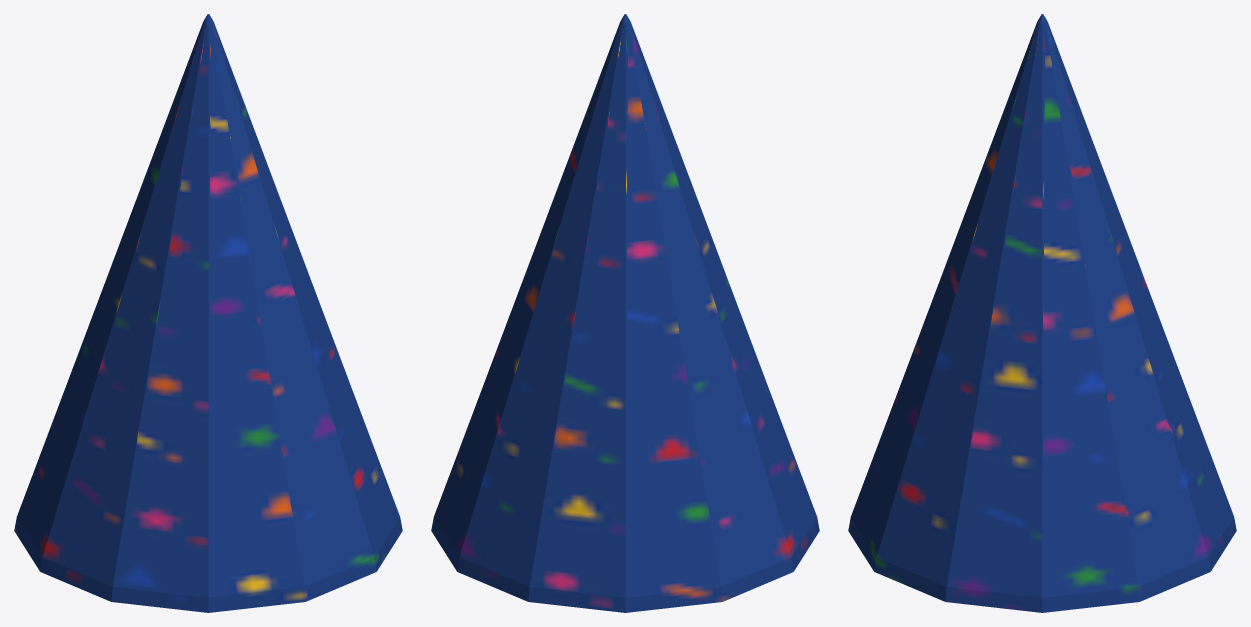
The model's file is party_hat_confetti.glb.
The picture shows the model from 3 angles, left to right: view 1: azimuth 30°, elevation 25°; view 2: azimuth 150°, elevation 25°; view 3: azimuth 270°, elevation 25°; orthographic projection.
Parts seen in each view (by area): view 1: party_hat_confetti_body; view 2: party_hat_confetti_body; view 3: party_hat_confetti_body.
Part boxes in pixels (x1=…): party_hat_confetti_body: x1=14, y1=14, x2=402, y2=612; party_hat_confetti_body: x1=431, y1=14, x2=819, y2=612; party_hat_confetti_body: x1=848, y1=14, x2=1236, y2=612.
Size of the model in its own units: 0.15 by 0.22 by 0.15.
Materials: 2 (2 with a texture image).
